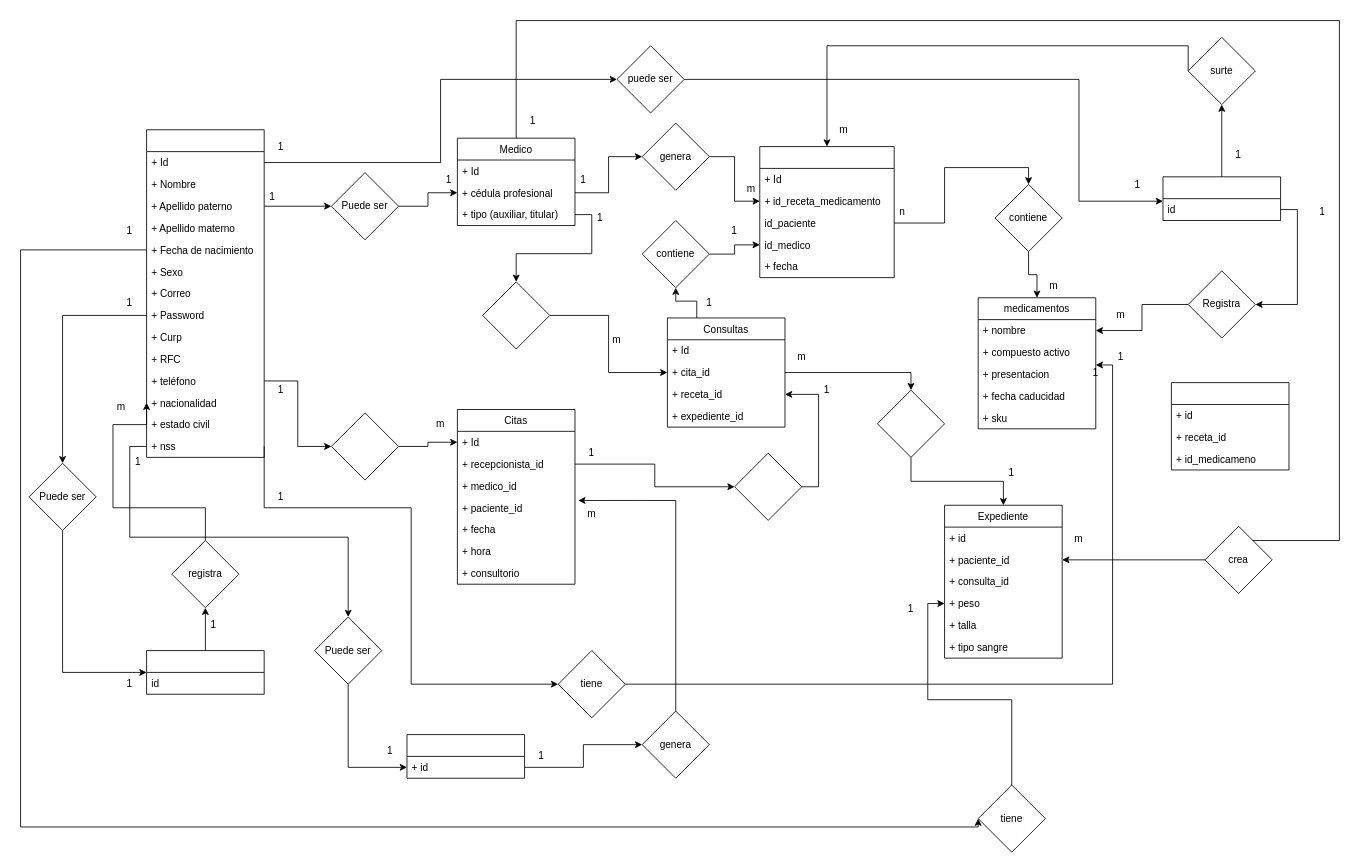
This 1361x867 diagram has some shape labels left out. Each missing label, with the box of its shape:
Administrador: (146, 650, 264, 694)
atiende: (482, 281, 550, 349)
Encargado de Farmacia: (1162, 176, 1281, 220)
permite: (734, 452, 802, 520)
recepcionista: (406, 734, 525, 778)
receta_medicamentos: (1171, 382, 1289, 470)
Recetas: (759, 146, 894, 278)
Se guarda en: (877, 389, 945, 457)
Solicita: (331, 412, 399, 480)
usuario: (146, 129, 264, 457)
